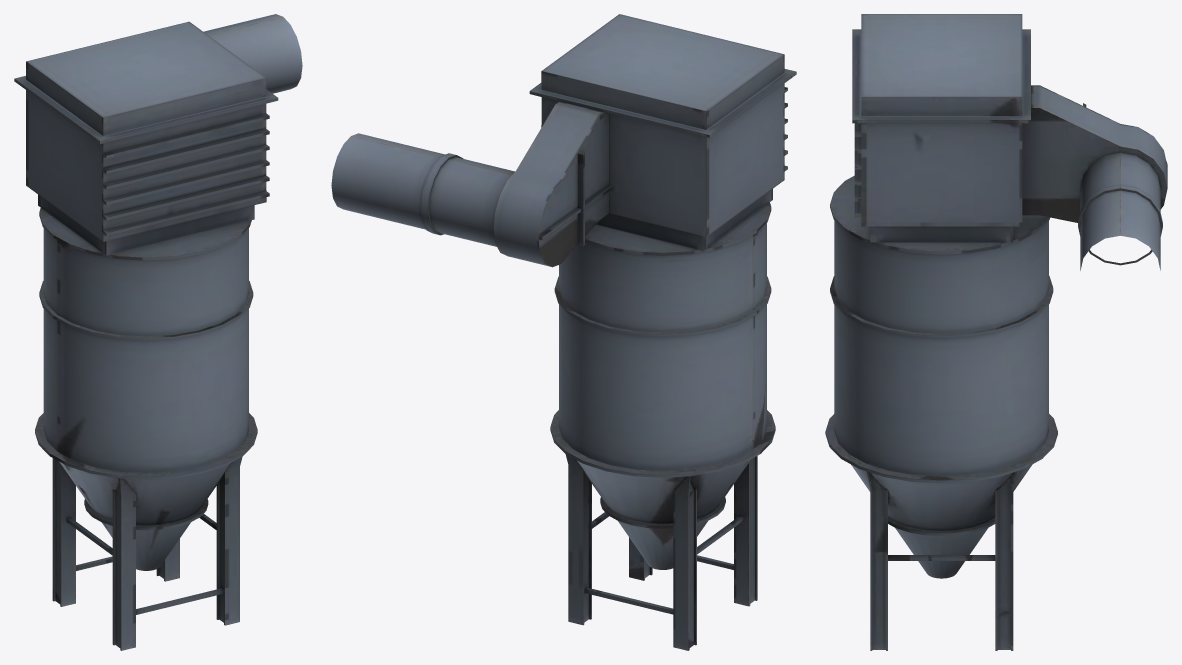
3 views of the same model, side by side, from view 1: azimuth 30°, elevation 25°; view 2: azimuth 150°, elevation 25°; view 3: azimuth 270°, elevation 25° (orthographic). The views are drawn at different scales.
Visible parts, largest first — view 1: body0_model0_lod0_mesh0; view 2: body0_model0_lod0_mesh0; view 3: body0_model0_lod0_mesh0.
Boxes of the visible parts, x1,y1,x2,y2 form: body0_model0_lod0_mesh0: (14,14,302,650); body0_model0_lod0_mesh0: (331,14,796,650); body0_model0_lod0_mesh0: (825,14,1167,650).
Size of the model in its own units: 344 by 558 by 306.
Materials: 1 (1 with a texture image).
